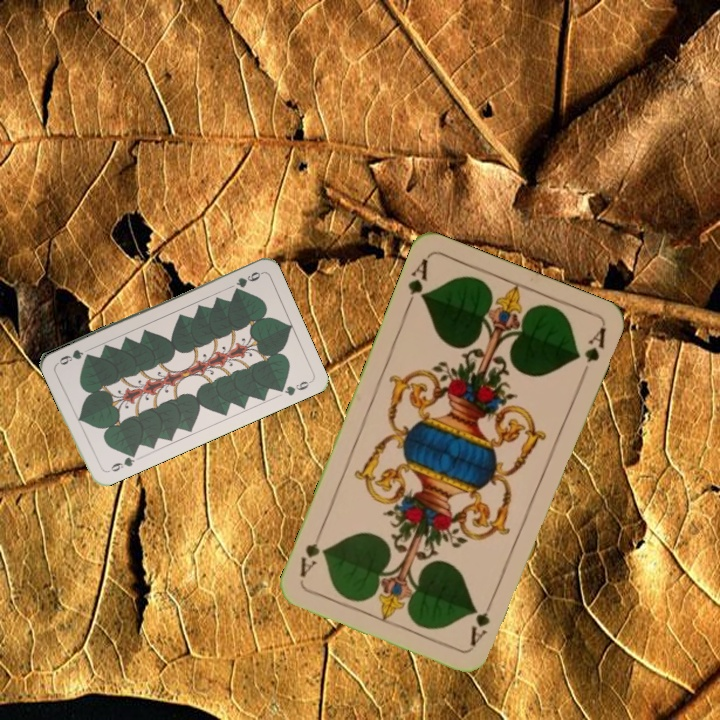G9: (102, 449, 138, 475), (232, 268, 265, 290)
GA: (466, 593, 497, 649), (402, 254, 431, 312)
